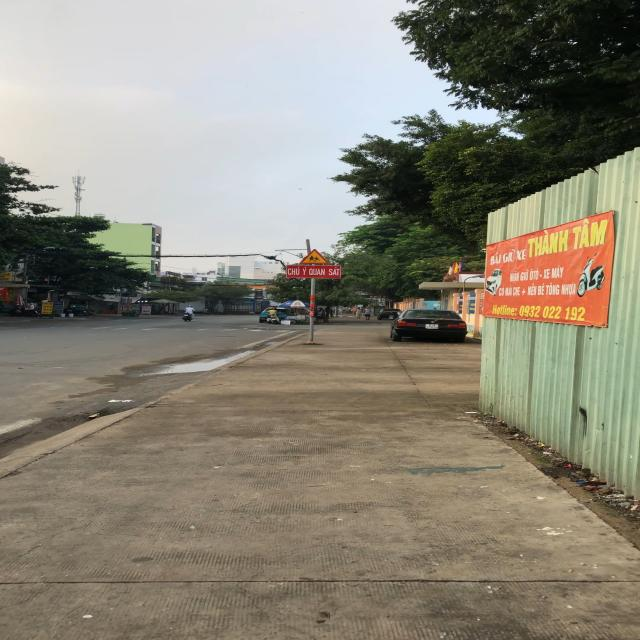Bien bao tre em: (300, 248, 330, 264)
